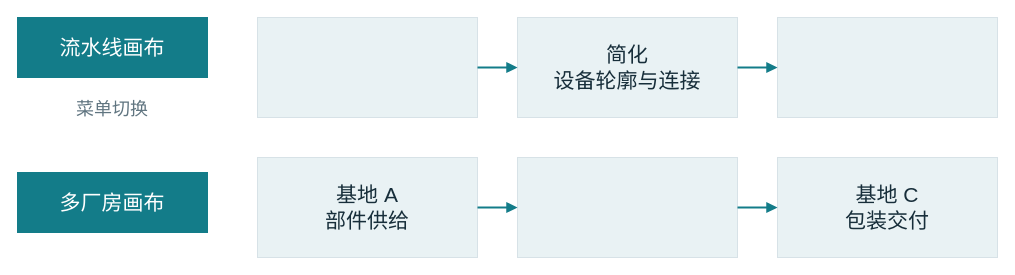
This 1015x275 diagram has some shape labels left out. Each missing label, with the box of its shape:
基地 B 总装: (516, 156, 738, 258)
总览 产线与区域聚合: (776, 16, 998, 118)
详细 设备与物品状态: (256, 16, 478, 118)
